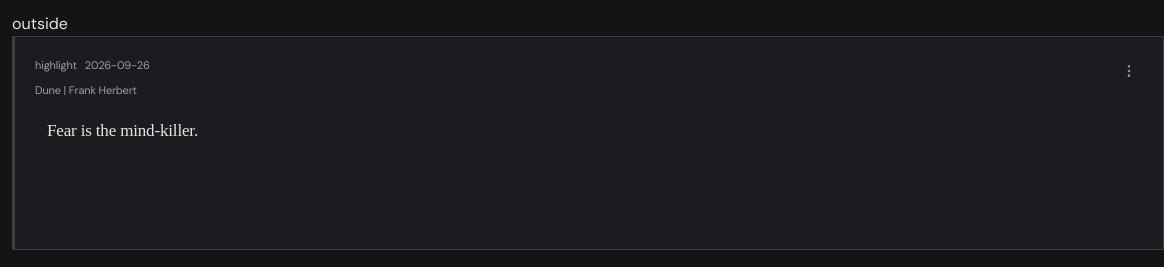
Test: AnnotationListCard menu › opens, runs an item and closes
Click the button named "Actions". click: (1129, 71)
box: [1115,57,1143,85]
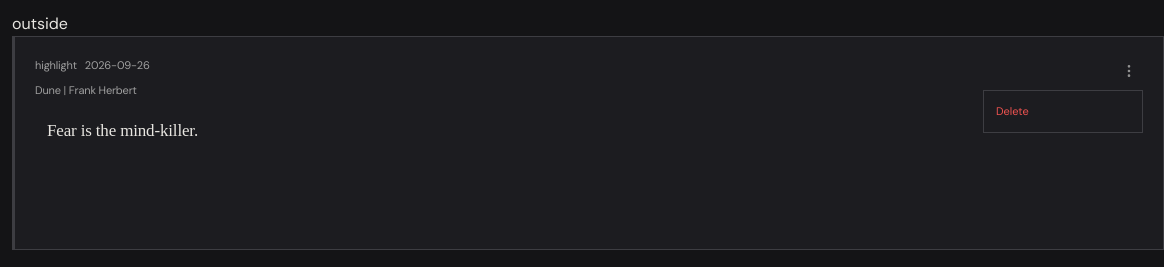
Check: the menu is shown, box [983,90,1143,132]
Press the mouse on the menu item "Delete" at (1063, 111), box [984,95,1142,128]
Check: the menu is shown, box [983,90,1143,132]
Click the menu item "Delete". click: (1063, 111)
box: [984,95,1142,128]
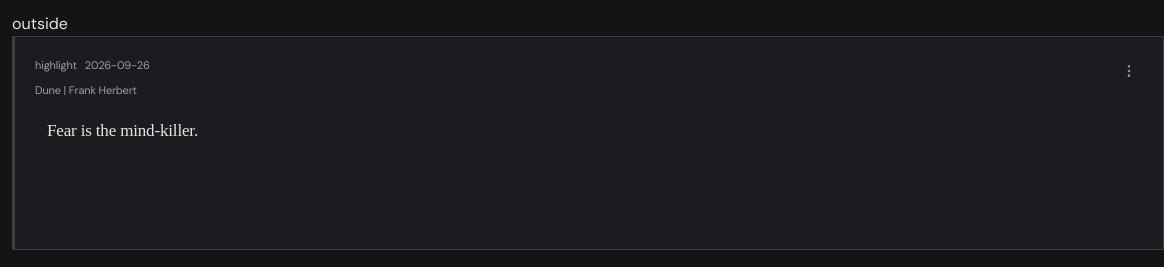
Check: the menu is gone
